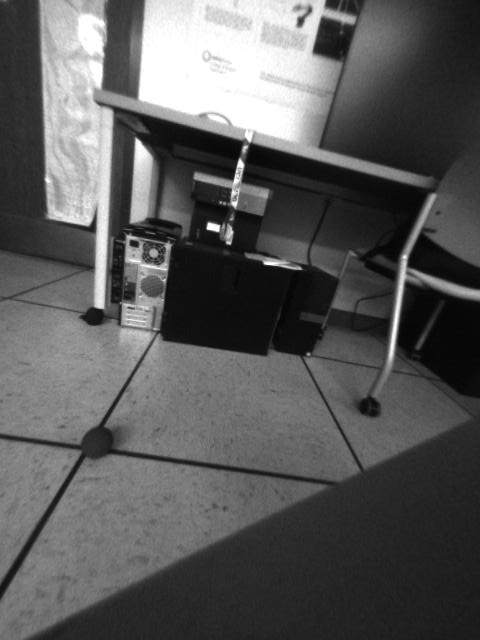dogtoy: (67, 417, 125, 469)
